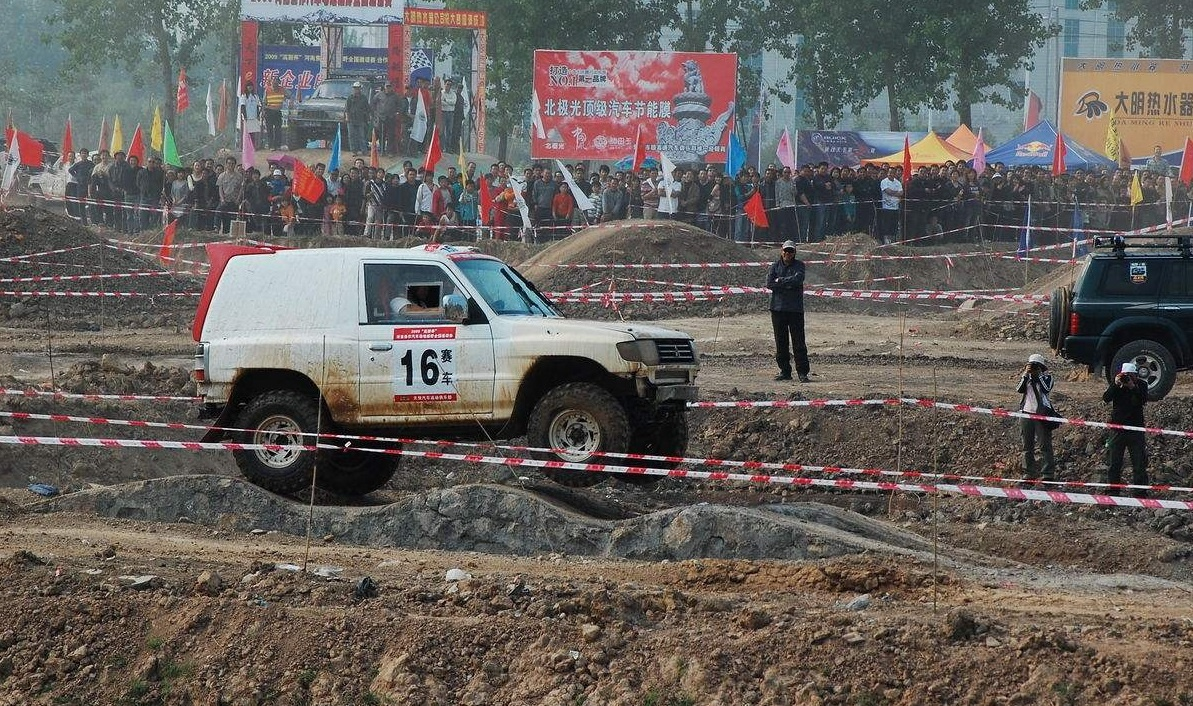racing car: (163, 216, 703, 497)
